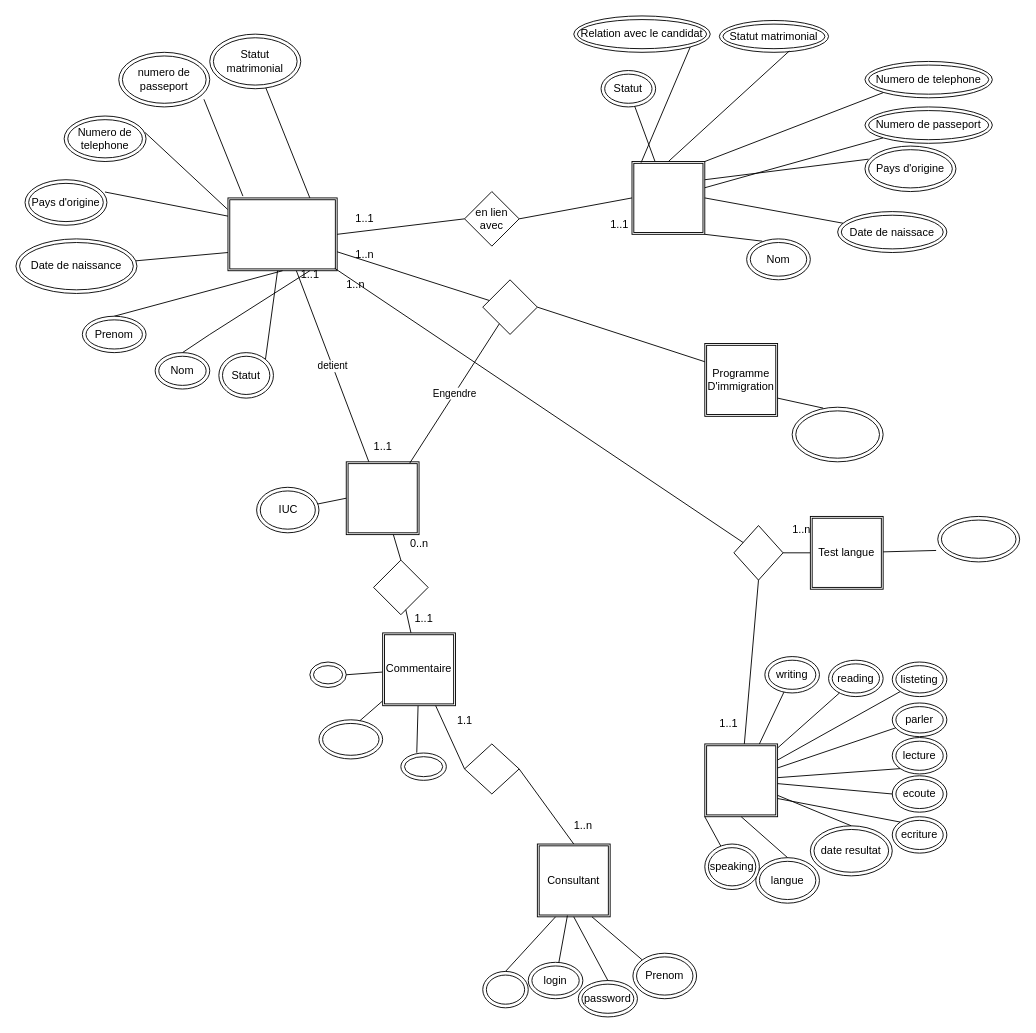
Some shapes in this 1036 by 1033 pixel diagram are drawn without their labels. Each missing label, with the box of its shape:
Candidat: (227, 197, 337, 271)
Conjoint: (631, 161, 705, 234)
Contenu: (318, 719, 383, 759)
date: (400, 752, 446, 780)
Dossier d'immigration: (345, 461, 419, 535)
ID: (309, 661, 346, 688)
Nom du programme: (791, 406, 883, 462)
Nom du test: (937, 516, 1020, 562)
Non: (482, 971, 528, 1008)
Passer: (733, 525, 783, 580)
porte sur: (373, 559, 428, 615)
Postuler: (482, 279, 537, 334)
Redige: (464, 743, 519, 794)
Resultst de test: (704, 743, 778, 817)
